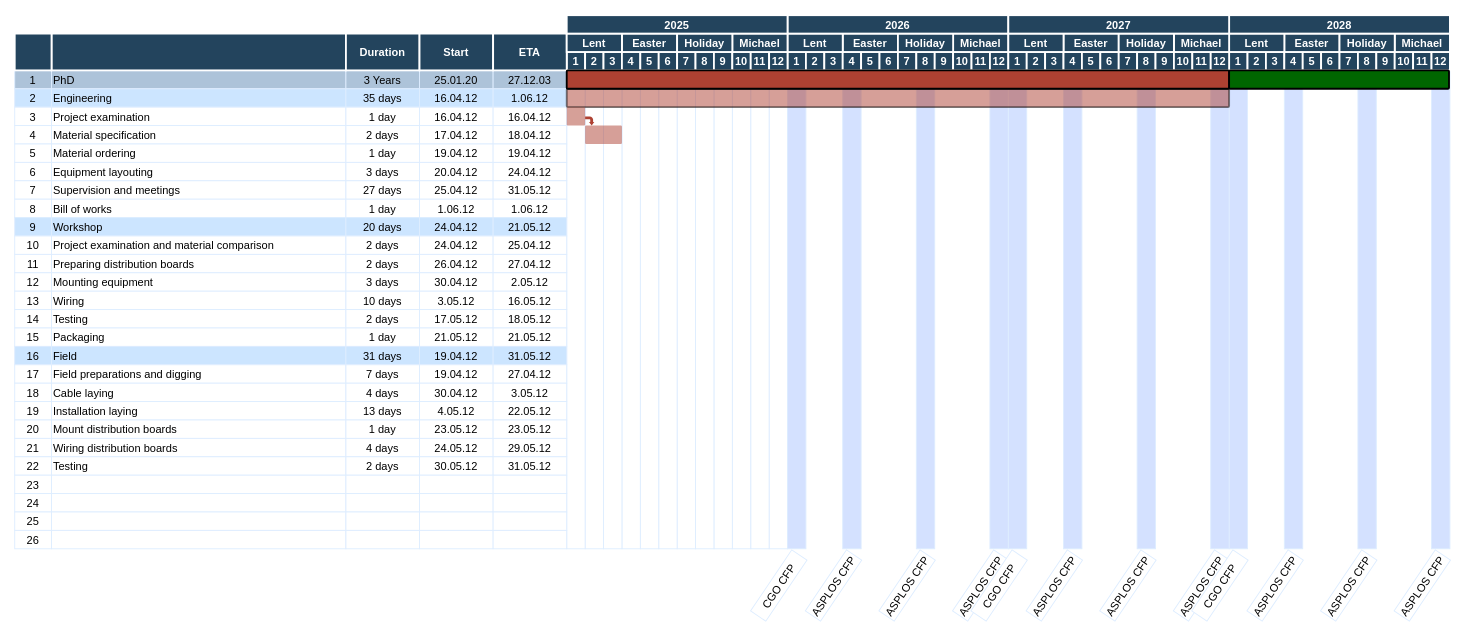
The diagram is 1466 pixels wide and 637 high, and some of its shapes have lost their labels. The shapes that lost their labels are listed below. From the top down, each one's box as (x1, y1, x2, y2) in pixels, then its label:
(50, 32, 346, 71): Task Name
(1228, 69, 1449, 89): Buffer
